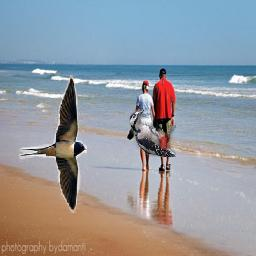Swallow: (19, 75, 87, 213)
Woodpecker: (130, 109, 177, 157)
